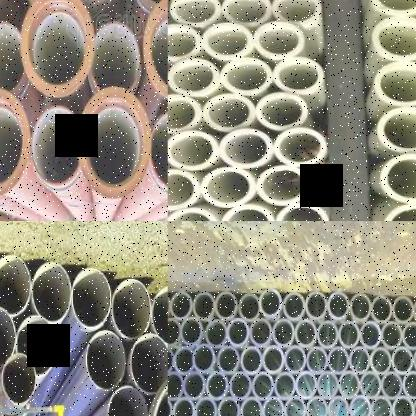pipe: (76, 88, 152, 198), (20, 0, 95, 98), (30, 106, 80, 186), (90, 22, 141, 90), (0, 87, 30, 197), (142, 0, 167, 101), (85, 330, 126, 390), (16, 316, 57, 376), (112, 278, 152, 338), (32, 262, 71, 323), (130, 334, 168, 396), (72, 268, 111, 328), (201, 167, 255, 208), (256, 165, 310, 206), (219, 129, 273, 168), (203, 93, 255, 132), (256, 92, 308, 131), (168, 131, 218, 171), (371, 16, 416, 60), (274, 128, 326, 166), (168, 58, 220, 96), (221, 57, 272, 95), (379, 152, 416, 204), (274, 56, 324, 94), (373, 61, 416, 105), (254, 21, 304, 58), (201, 22, 252, 58), (0, 253, 30, 314), (377, 107, 416, 152), (2, 354, 36, 404), (0, 21, 24, 90), (149, 109, 168, 189), (167, 94, 202, 133), (170, 0, 221, 26), (167, 24, 202, 61), (168, 169, 199, 210), (106, 385, 147, 416), (221, 0, 271, 25), (271, 0, 320, 23), (151, 284, 168, 345), (275, 202, 329, 221), (0, 306, 15, 368), (221, 204, 274, 221), (192, 344, 216, 375), (228, 370, 251, 402), (206, 370, 229, 402), (204, 318, 227, 350), (295, 318, 318, 350), (226, 317, 249, 349), (272, 317, 295, 349), (180, 316, 203, 348), (259, 289, 282, 321), (168, 207, 220, 221), (250, 316, 272, 349), (368, 0, 416, 15), (216, 345, 240, 375), (240, 345, 263, 376), (184, 370, 206, 402), (262, 344, 284, 376), (360, 319, 382, 351), (350, 292, 372, 324), (214, 292, 237, 322), (192, 292, 215, 322), (284, 344, 306, 375), (381, 320, 403, 351), (338, 319, 360, 350), (328, 291, 350, 322), (306, 291, 328, 322), (170, 292, 193, 321), (252, 371, 274, 401), (360, 370, 382, 400), (338, 370, 360, 400), (306, 345, 328, 375), (328, 345, 350, 375), (392, 296, 414, 326), (283, 292, 305, 322), (274, 371, 296, 400), (295, 371, 317, 400), (316, 371, 338, 400), (381, 371, 403, 400), (370, 346, 392, 375), (392, 346, 414, 375), (238, 293, 260, 322), (174, 345, 194, 376), (317, 319, 337, 350), (371, 296, 392, 325), (350, 345, 370, 375), (381, 204, 416, 221), (348, 394, 370, 416), (168, 371, 183, 402), (370, 395, 392, 416), (194, 396, 217, 416), (217, 396, 240, 416), (284, 395, 305, 416), (306, 395, 327, 416), (392, 395, 413, 416), (172, 396, 194, 416), (240, 396, 262, 416), (262, 396, 284, 416), (328, 395, 348, 416), (402, 321, 416, 351), (403, 370, 416, 400), (168, 317, 180, 348), (168, 346, 173, 376), (412, 297, 416, 326), (412, 346, 416, 374), (412, 396, 416, 415)
